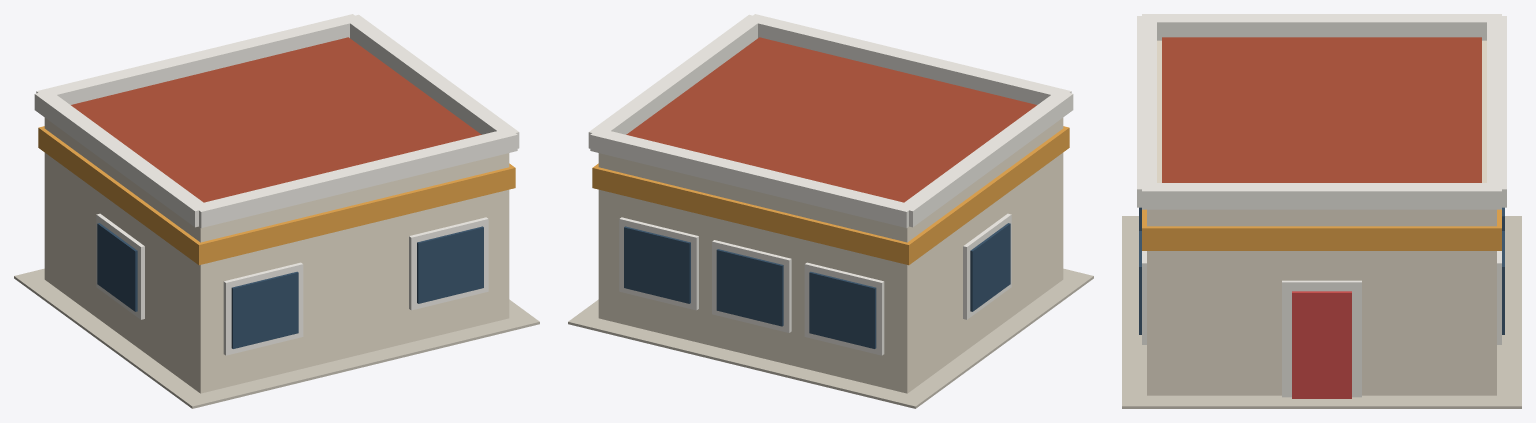
Rendered from annex-classrooms.glb.
3 views of the same model, side by side, from view 1: azimuth 30°, elevation 25°; view 2: azimuth 150°, elevation 25°; view 3: azimuth 270°, elevation 25° (orthographic). The views are drawn at different scales.
Visible parts, largest first — view 1: building, roof, parapet (×4), accent_stripe, window_glass (×3), ground, window_frame (×3); view 2: building, roof, parapet (×4), window_glass (×4), accent_stripe, ground, window_frame (×4); view 3: building, roof, parapet (×4), ground, accent_stripe, door, door_frame, window_frame (×2).
Boxes of the visible parts, <box> form: building: <box>44,118,509,393</box>; roof: <box>71,37,481,202</box>; parapet (×4): <box>34,14,519,227</box>; accent_stripe: <box>38,126,515,265</box>; window_glass (×3): <box>97,223,483,348</box>; ground: <box>14,268,539,408</box>; window_frame (×3): <box>96,213,488,355</box>; building: <box>598,118,1063,393</box>; roof: <box>626,37,1036,202</box>; parapet (×4): <box>588,14,1073,227</box>; window_glass (×4): <box>624,223,1010,348</box>; accent_stripe: <box>592,126,1069,265</box>; ground: <box>568,268,1093,408</box>; window_frame (×4): <box>619,213,1011,355</box>; building: <box>1147,40,1496,395</box>; roof: <box>1162,37,1481,182</box>; parapet (×4): <box>1137,14,1506,209</box>; ground: <box>1122,216,1521,408</box>; accent_stripe: <box>1142,209,1501,250</box>; door: <box>1292,291,1351,398</box>; door_frame: <box>1282,280,1361,397</box>; window_frame (×2): <box>1142,251,1501,344</box>.
Size of the model in its own units: 9 by 4.66 by 8.
